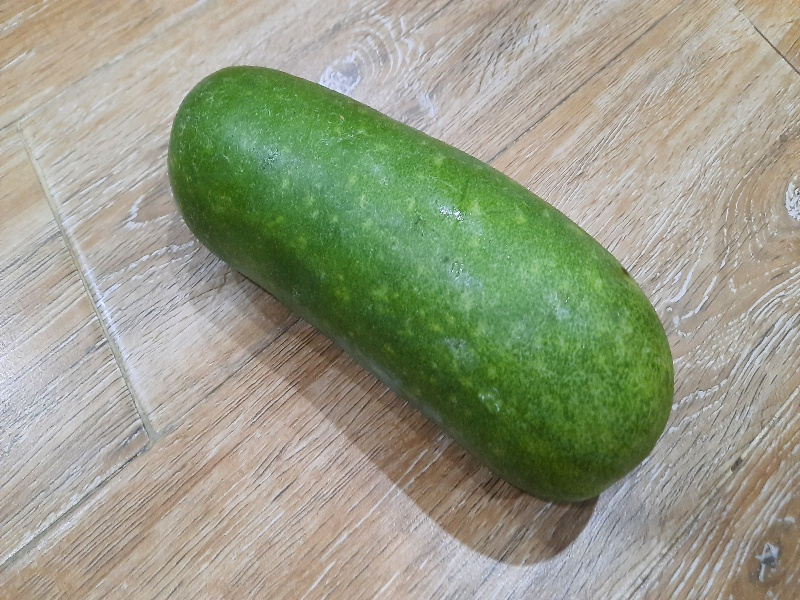vege: (160, 58, 677, 505)
